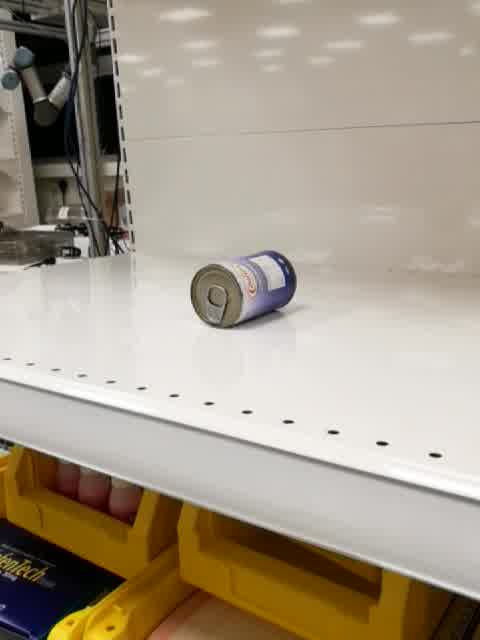sardine: (189, 251, 298, 329)
